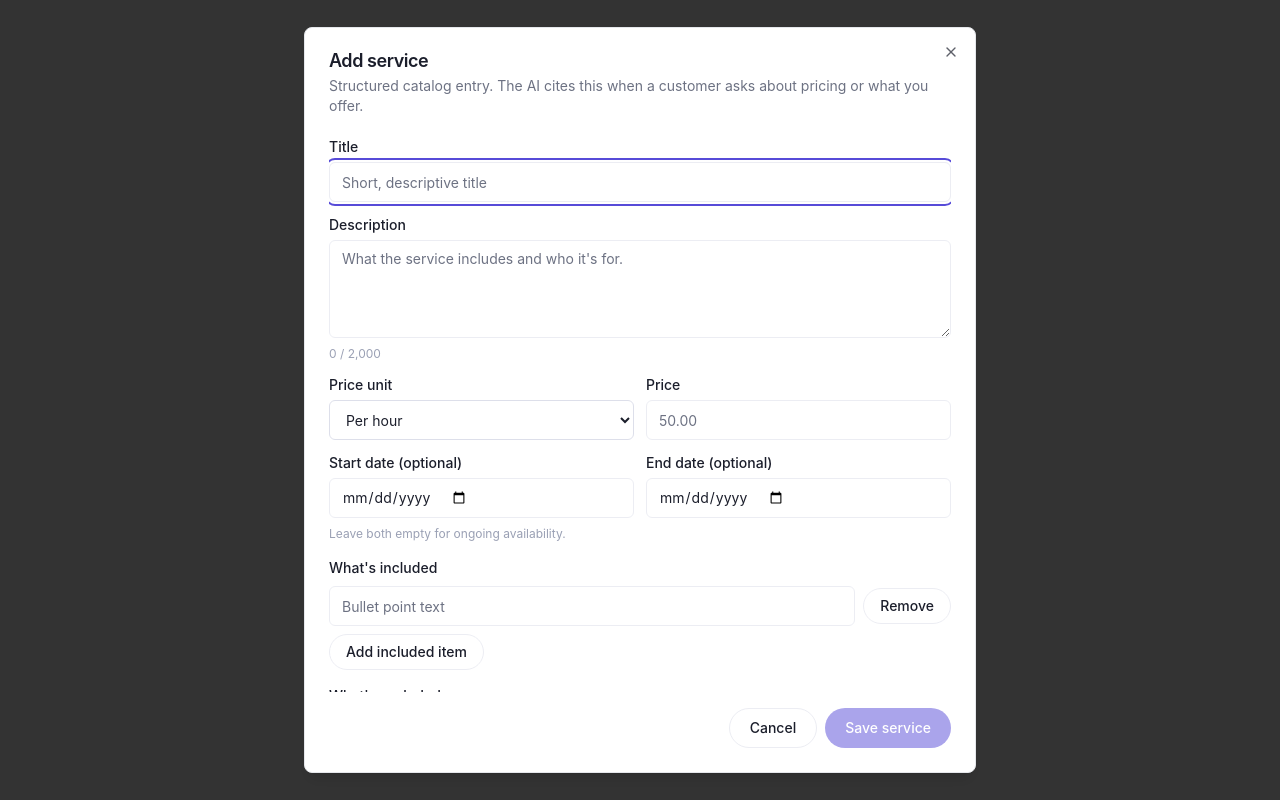
Scenario: AddServiceDialog — KAN-XXX › Test 3 — CUSTOM unit hides numeric price + shows custom label
Expected: the number field labelled "Price" is shown, [646, 400, 951, 440]
Expected: the field labelled "Custom price label" is not shown
Note: Switch to CUSTOM
Select "Custom (free-form label)" in the dropdown labelled "Price unit" at (482, 420), box [329, 400, 634, 440]
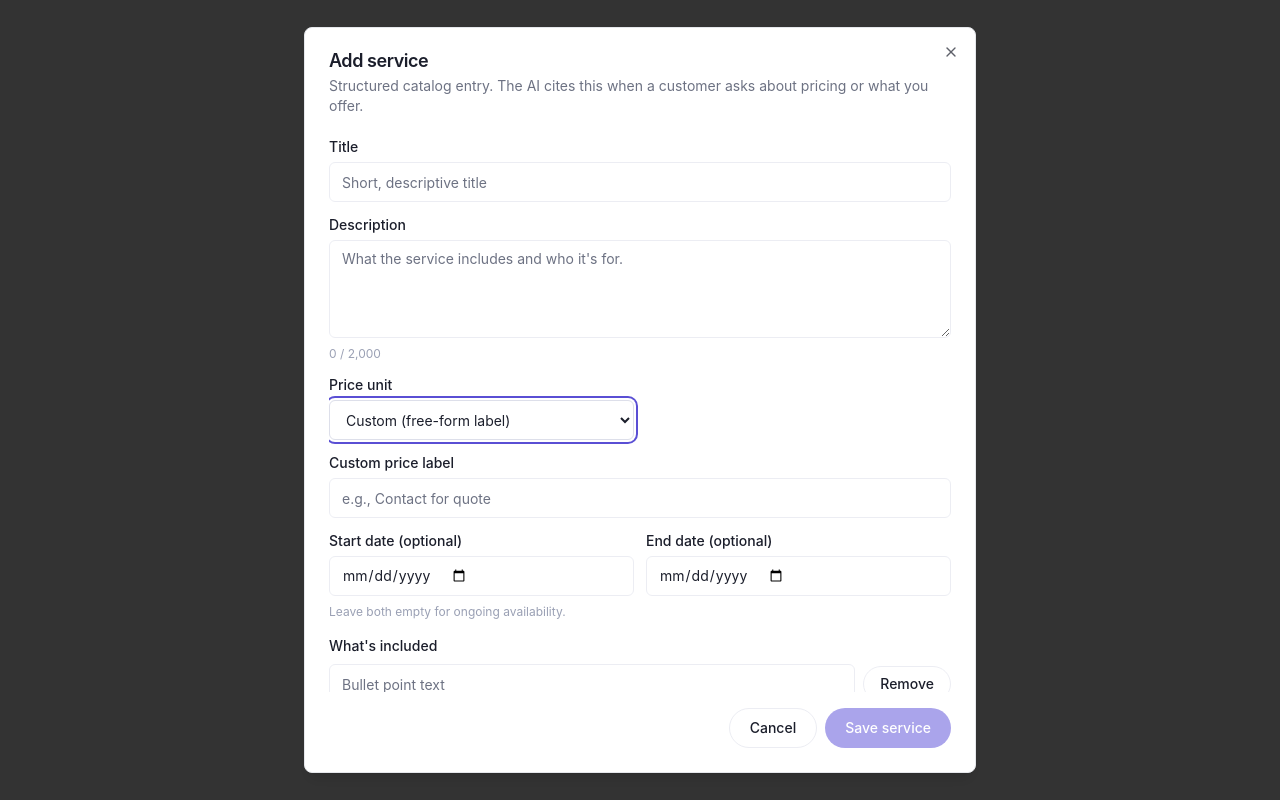
Now the field labelled "Custom price label" is shown, box [329, 478, 951, 518]
